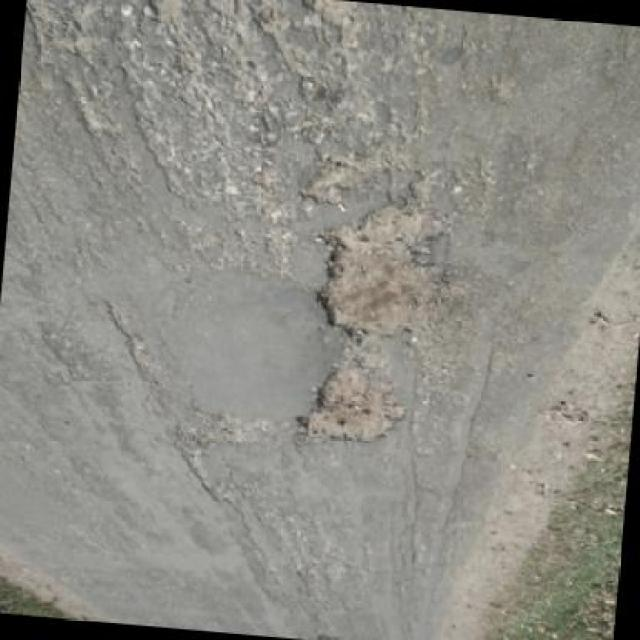pothole1: (308, 190, 463, 348), (290, 349, 415, 456)
